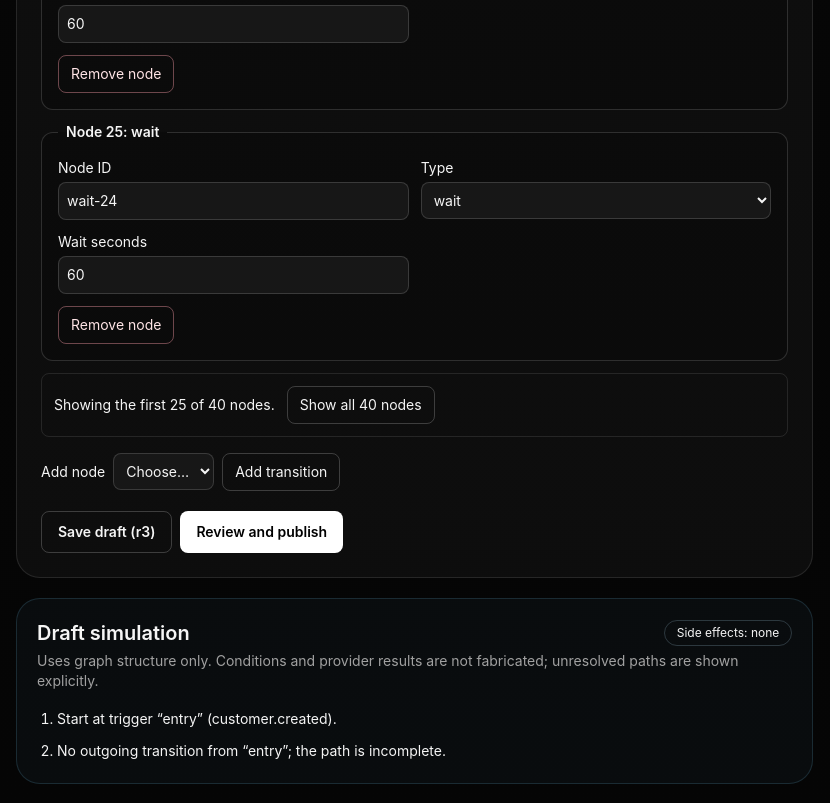
Test case: bounded editor collapses larger valid node lists and exposes an explicit expansion control
(page scrolled)
Check: the text "Showing the first 25 of 40 nodes." is shown, box [54, 395, 275, 415]
Check: the field named "Node 25 ID" is shown, box [58, 182, 409, 220]
Step 1. Click the button "Show all 40 nodes" → (361, 405), box [287, 386, 435, 424]
(page scrolled)
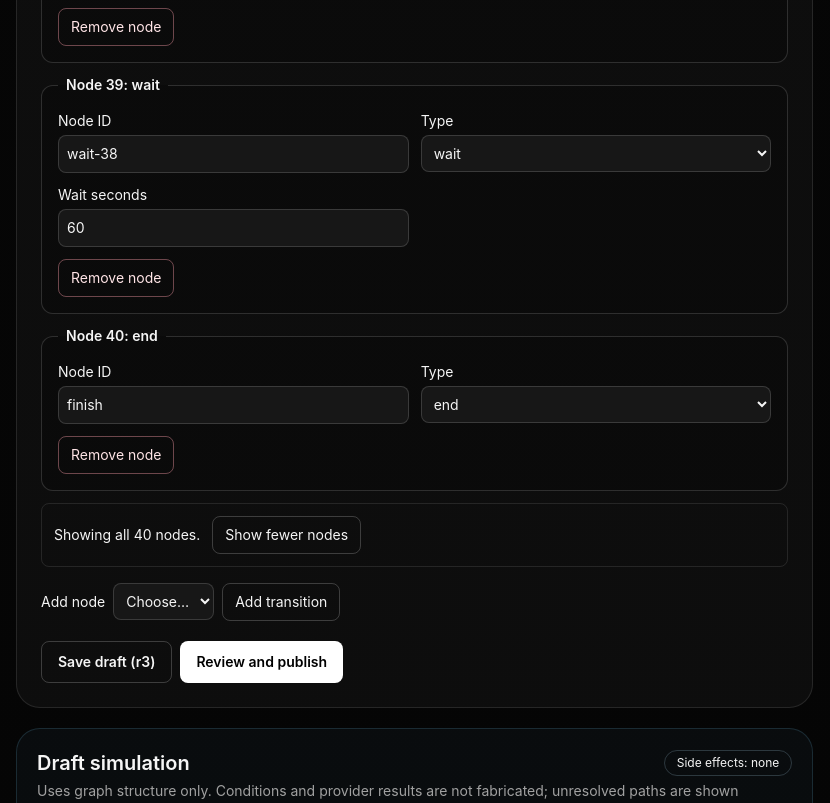
Check: the field named "Node 40 ID" is shown, box [58, 386, 409, 424]
